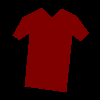abbigliamento_uomo: (12, 7, 89, 92)
